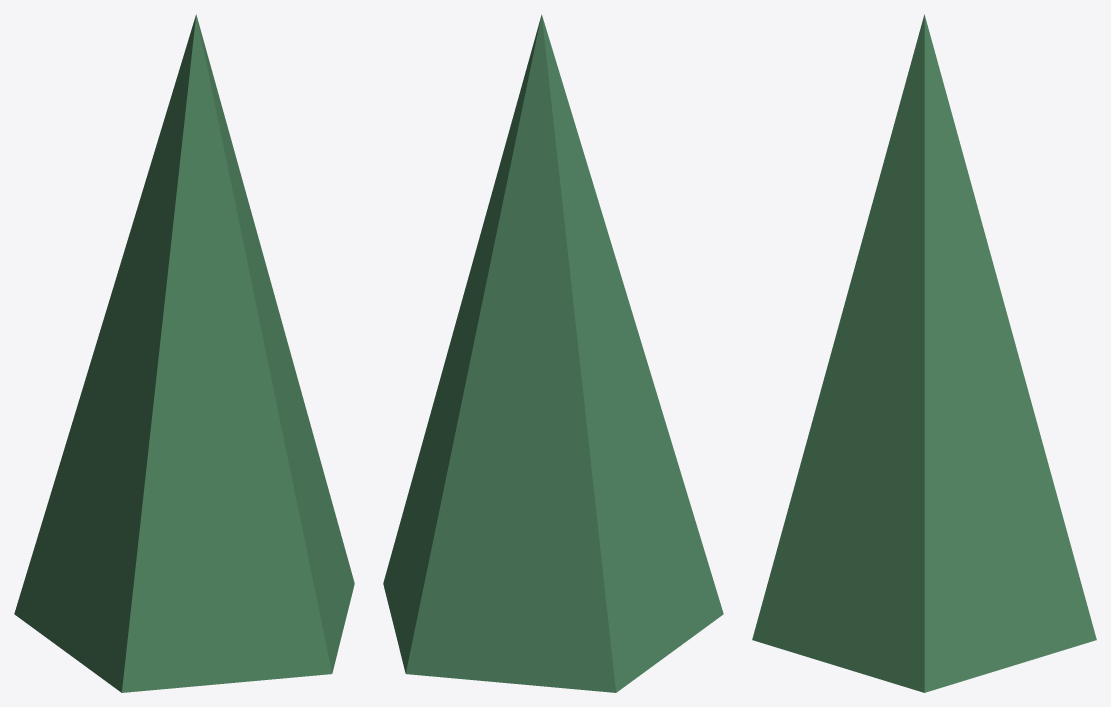
The model's file is tree_far.glb.
The picture shows the model from 3 angles, left to right: view 1: azimuth 30°, elevation 25°; view 2: azimuth 150°, elevation 25°; view 3: azimuth 270°, elevation 25°; orthographic projection.
Parts seen in each view (by area): view 1: tree_far; view 2: tree_far; view 3: tree_far.
Part boxes in pixels (x1,y1,x2,y2): tree_far: (14, 14, 354, 692); tree_far: (383, 14, 723, 692); tree_far: (752, 14, 1096, 692).
Size of the model in its own units: 5.43 by 11 by 5.71.
